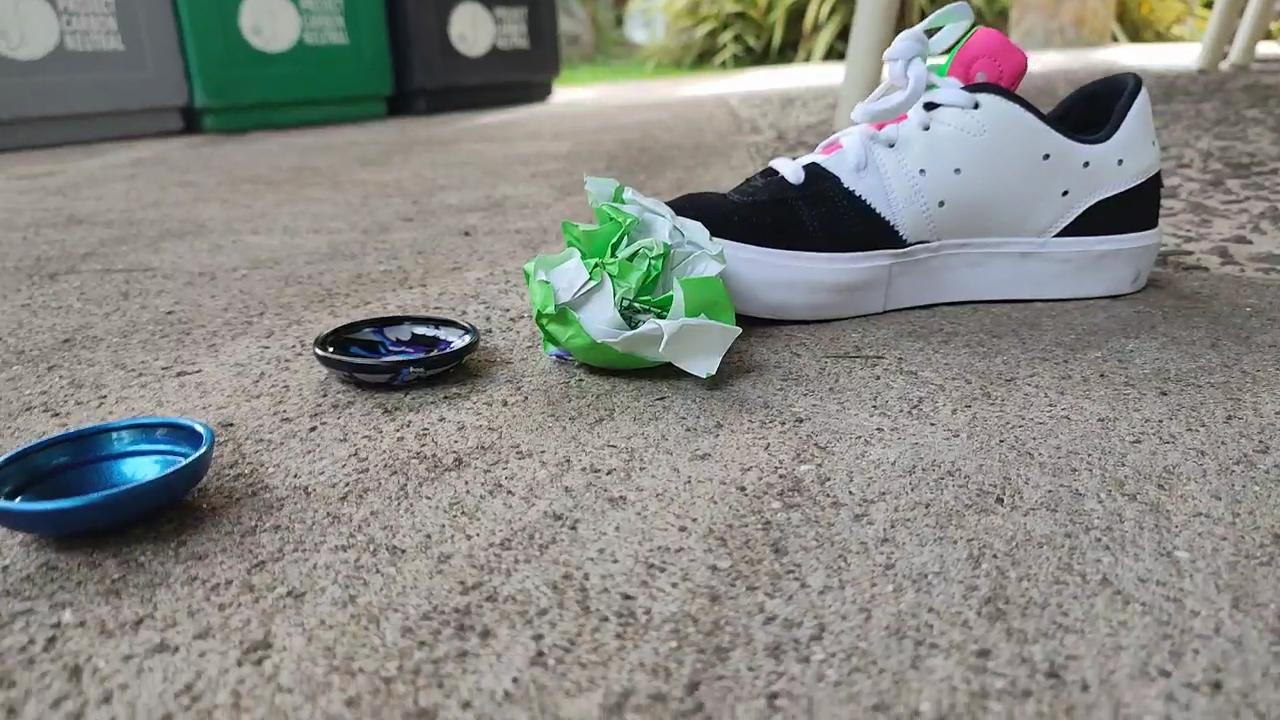Paper: (496, 165, 756, 387)
